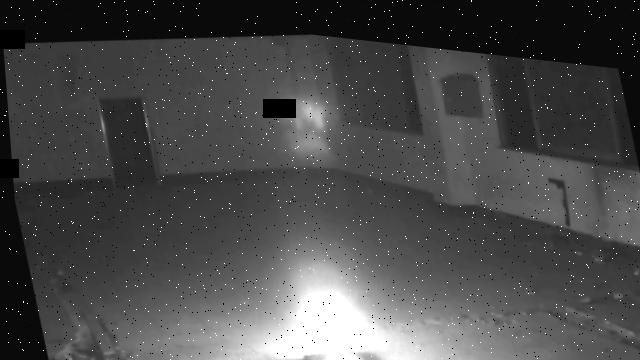fire: (277, 274, 377, 353)
smoke: (259, 76, 354, 169)
